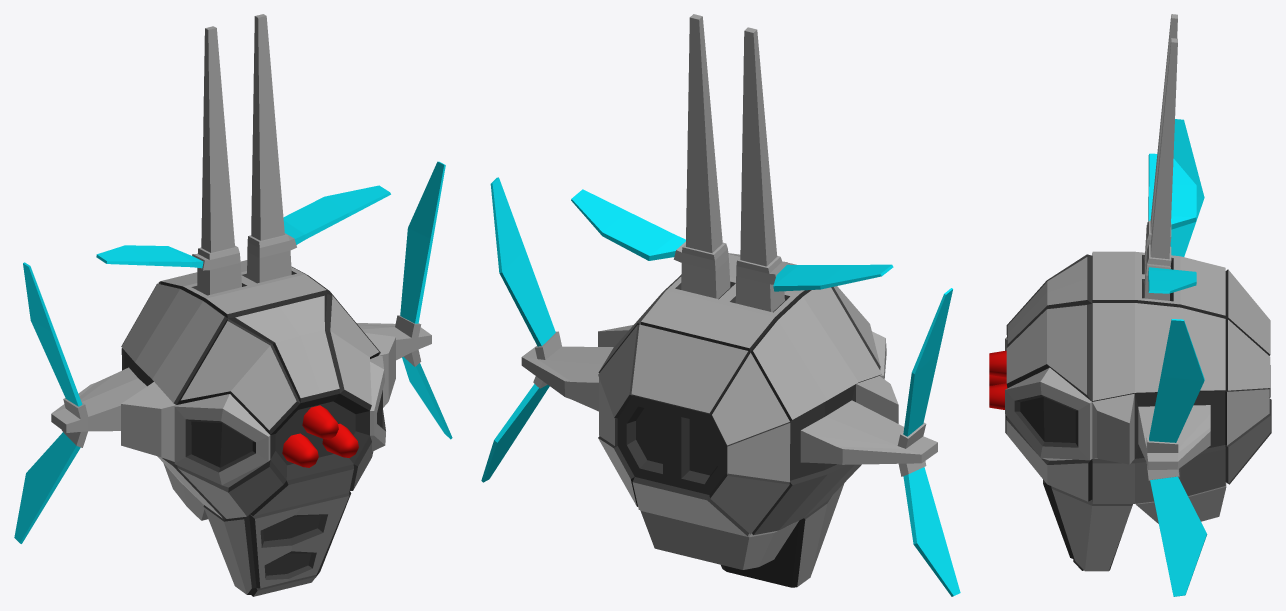
File: MM_Boss 2.fbx
The picture shows the model from 3 angles, left to right: view 1: azimuth 30°, elevation 25°; view 2: azimuth 150°, elevation 25°; view 3: azimuth 270°, elevation 25°; orthographic projection. The views are drawn at different scales.
Parts seen in each view (by area): view 1: Cube, Cylinder, Cylinder.001; view 2: Cube; view 3: Cube, Cylinder, Cylinder.001.
Boxes of the visible parts, x1,y1,x2,y2 form: Cube: (14,14,452,596); Cylinder: (282,423,358,467); Cylinder.001: (302,405,338,439); Cube: (481,14,960,596); Cube: (1005,14,1271,596); Cylinder: (989,375,1007,409); Cylinder.001: (989,350,1006,377).
Size of the model in its own units: 1455 by 1716 by 831.
